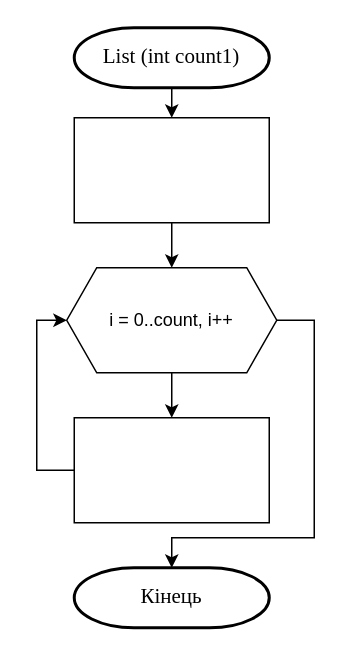
Image size: 353x654. Some labels were removed from this diagram. The shapes that lost their labels are listed below. From the top down, each one's box as (x1, y1, x2, y2) in pixels, then its label:
(73, 116, 269, 223): count = count1 birds = виділення памя'ті для масиву
(73, 416, 269, 523): birds[i] = виділення пам'яті для кожного елементу
